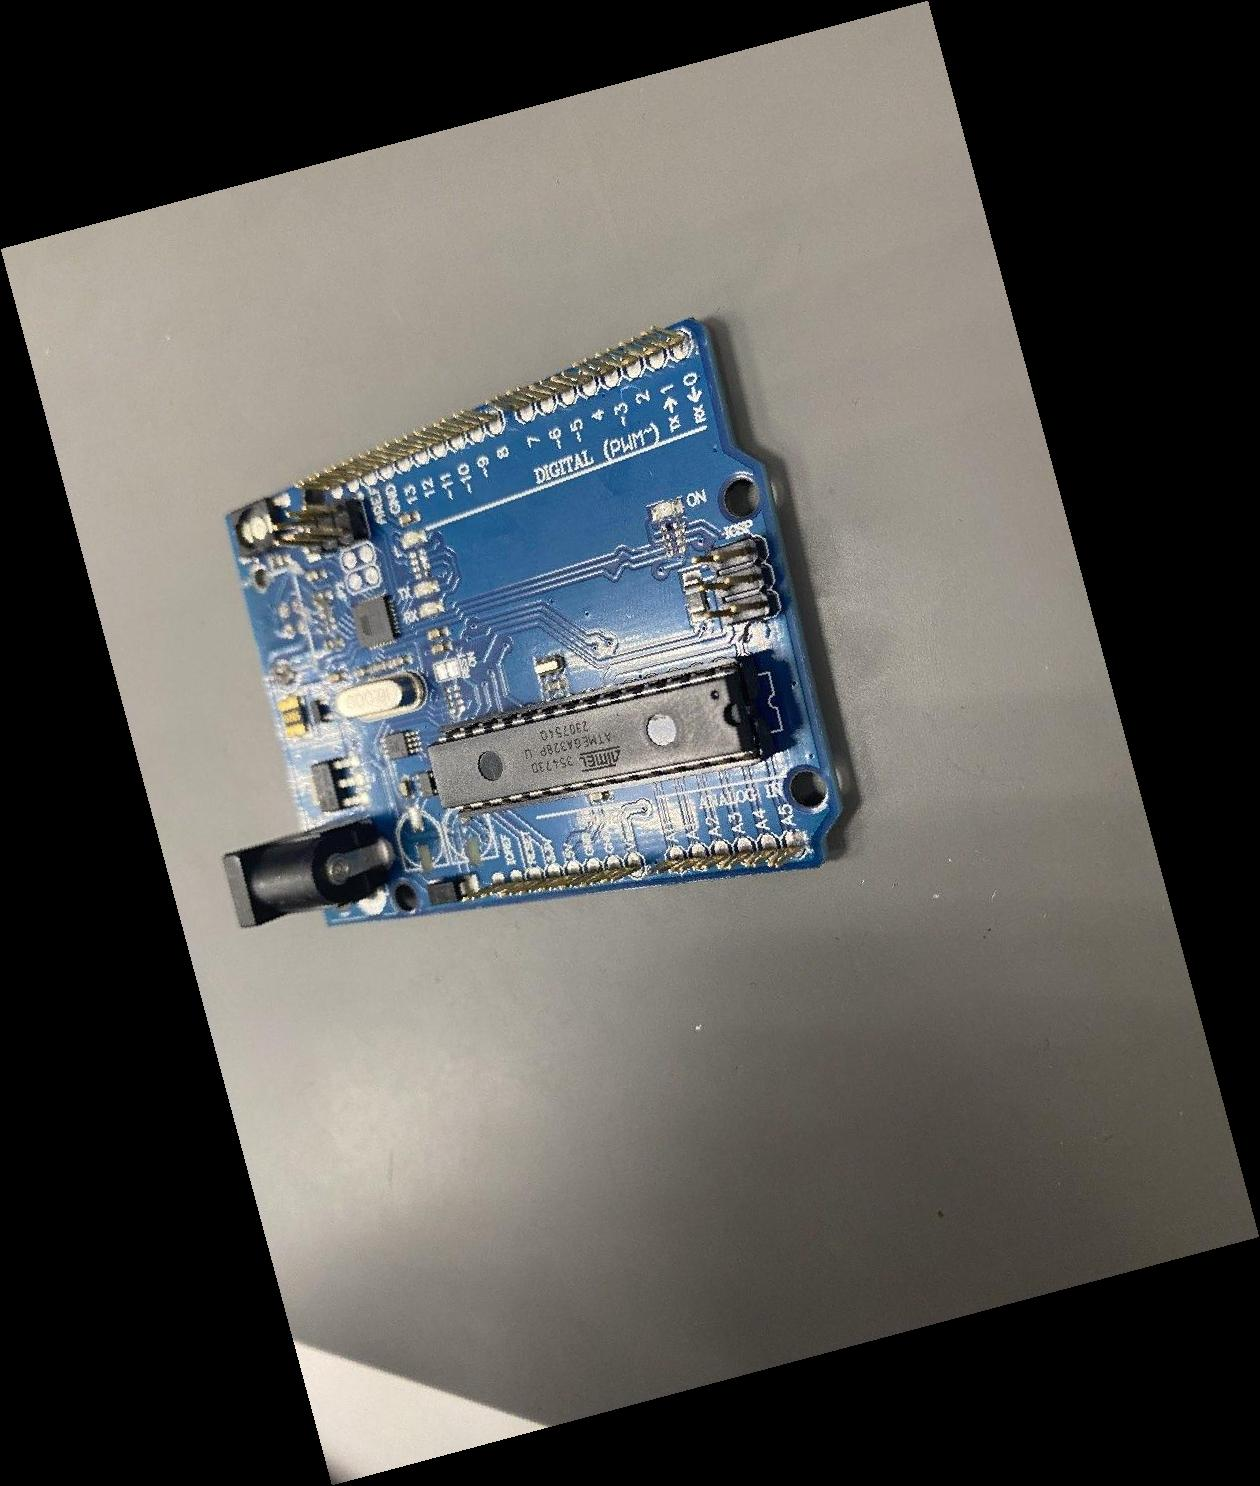ATmega328 chip: (427, 657, 774, 821)
Arduino board: (222, 316, 844, 929)
